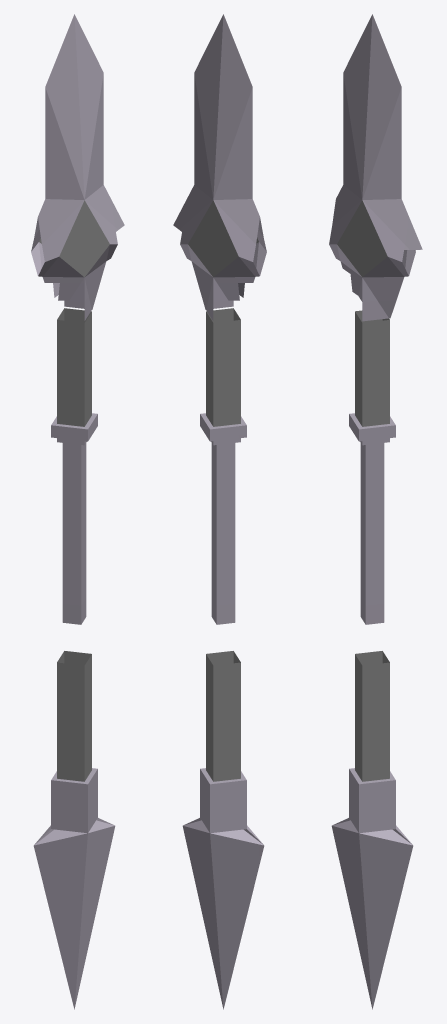
Rendered from zephyr.obj.
The picture shows the model from 3 angles, left to right: view 1: azimuth 30°, elevation 25°; view 2: azimuth 150°, elevation 25°; view 3: azimuth 330°, elevation 25°; orthographic projection.
Size of the model in its own units: 20.65 by 163 by 8.
